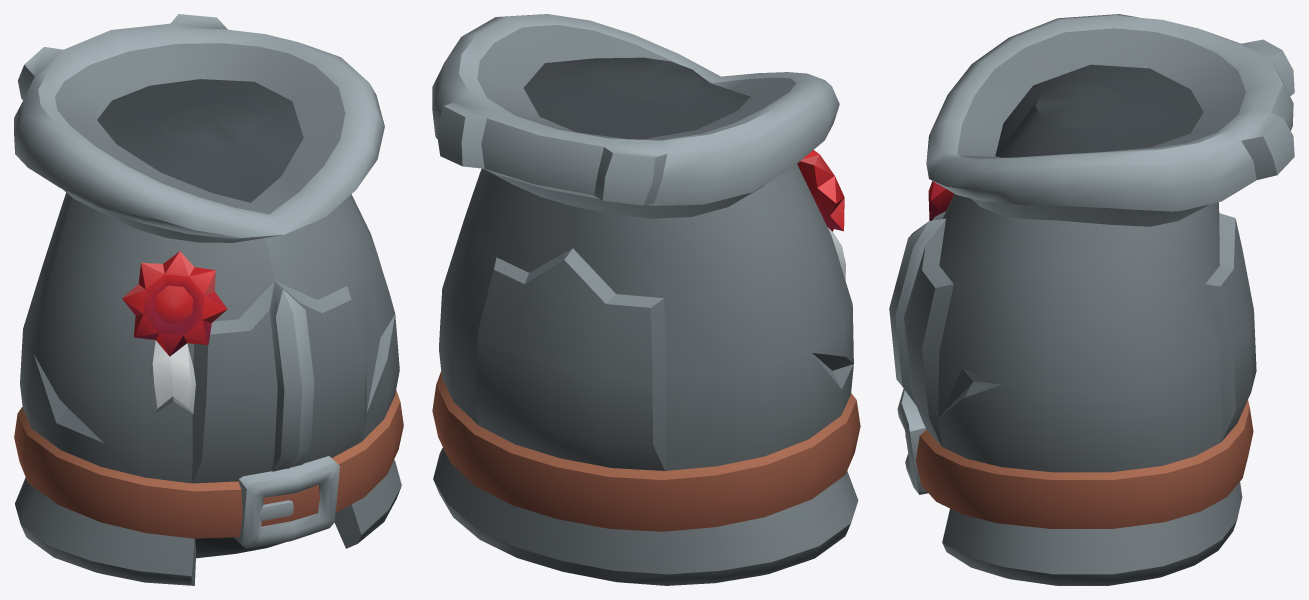
The model's file is chest_plate-D0VUmwkW.glb.
3 renders of one model, left to right at view 1: azimuth 30°, elevation 25°; view 2: azimuth 150°, elevation 25°; view 3: azimuth 270°, elevation 25°, orthographic. The views are drawn at different scales.
Visible parts, largest first — view 1: Knight_Body; view 2: Knight_Body; view 3: Knight_Body.
Boxes of the visible parts, box(x1,y1,x2,y2) form: Knight_Body: box(14, 14, 403, 585); Knight_Body: box(432, 14, 860, 585); Knight_Body: box(889, 14, 1294, 585).
Size of the model in its own units: 0.7898 by 0.9244 by 0.7788.
Materials: 1 (1 with a texture image).
